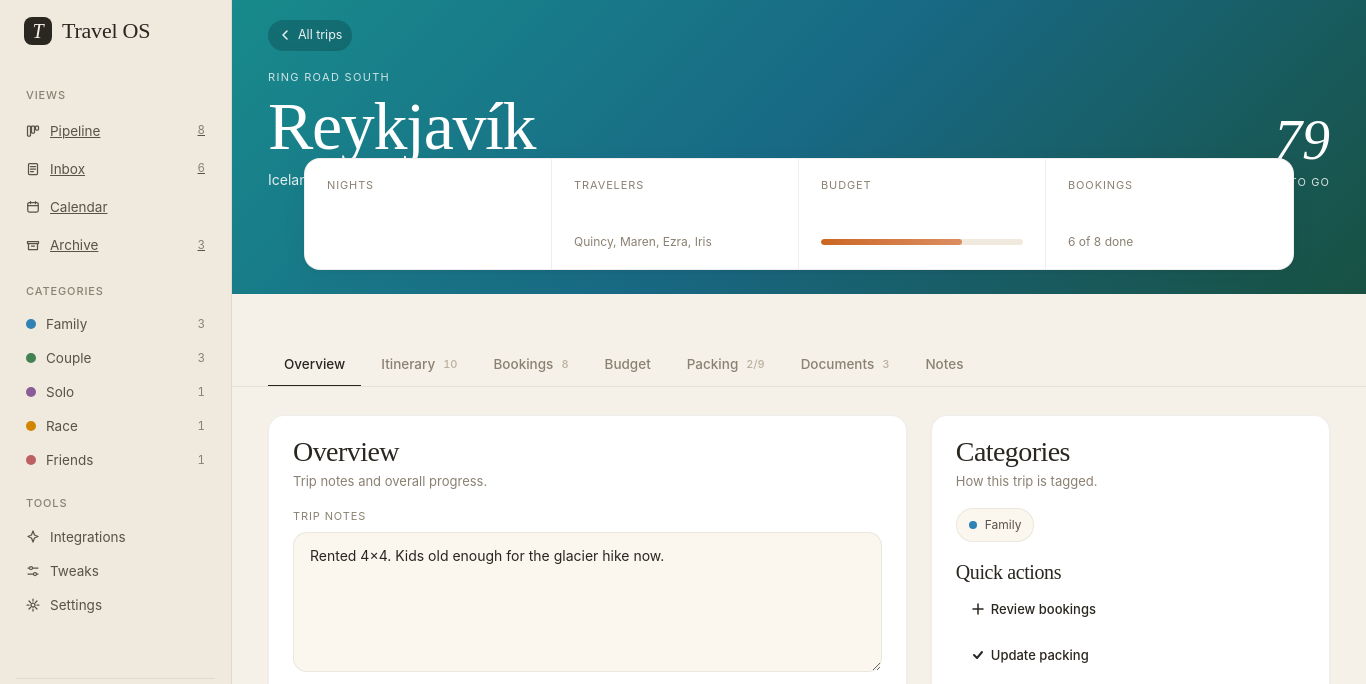
Test: route components › budget tab shows split cards for iceland (4 travelers)
The width and height of the screenshot is (1366, 684).
Expected: the heading "Reykjavík" is shown, [268,95,535,159]
Click the tab "Budget": (628, 366) [588,346,667,387]
(page scrolled)
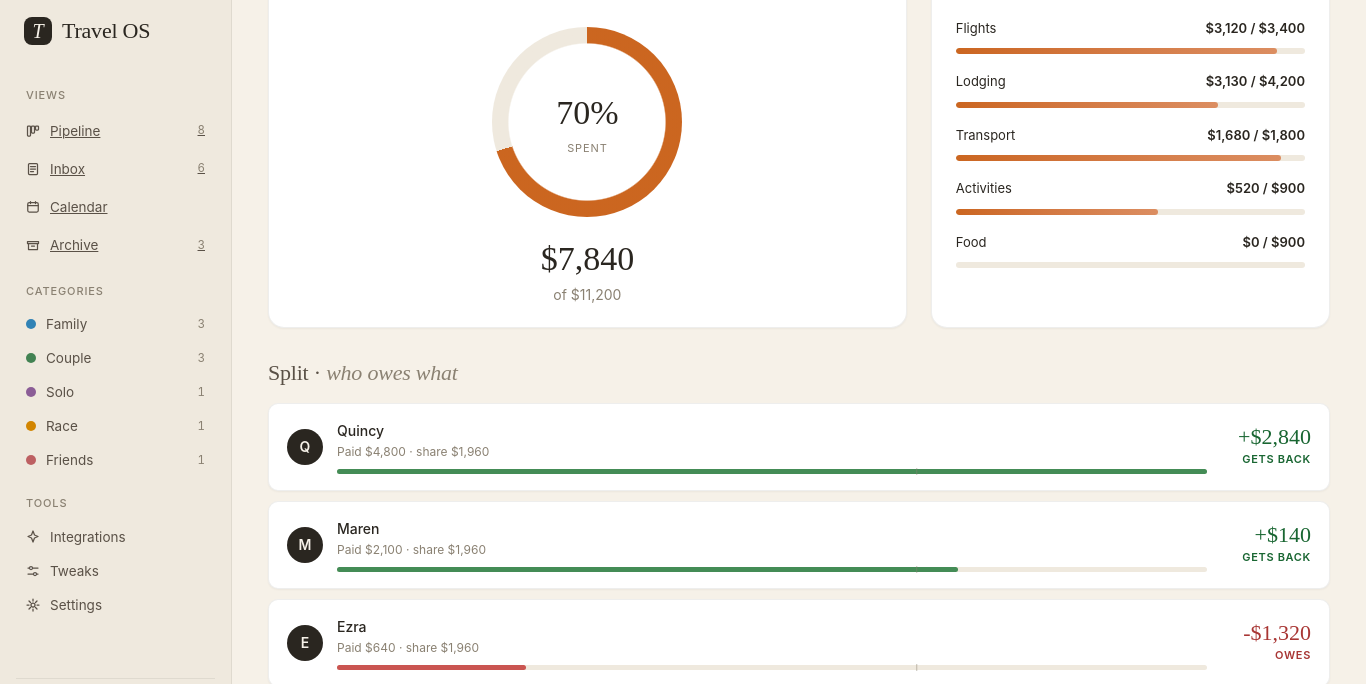
Expected: the text "who owes what" is shown, [326,360,458,384]
